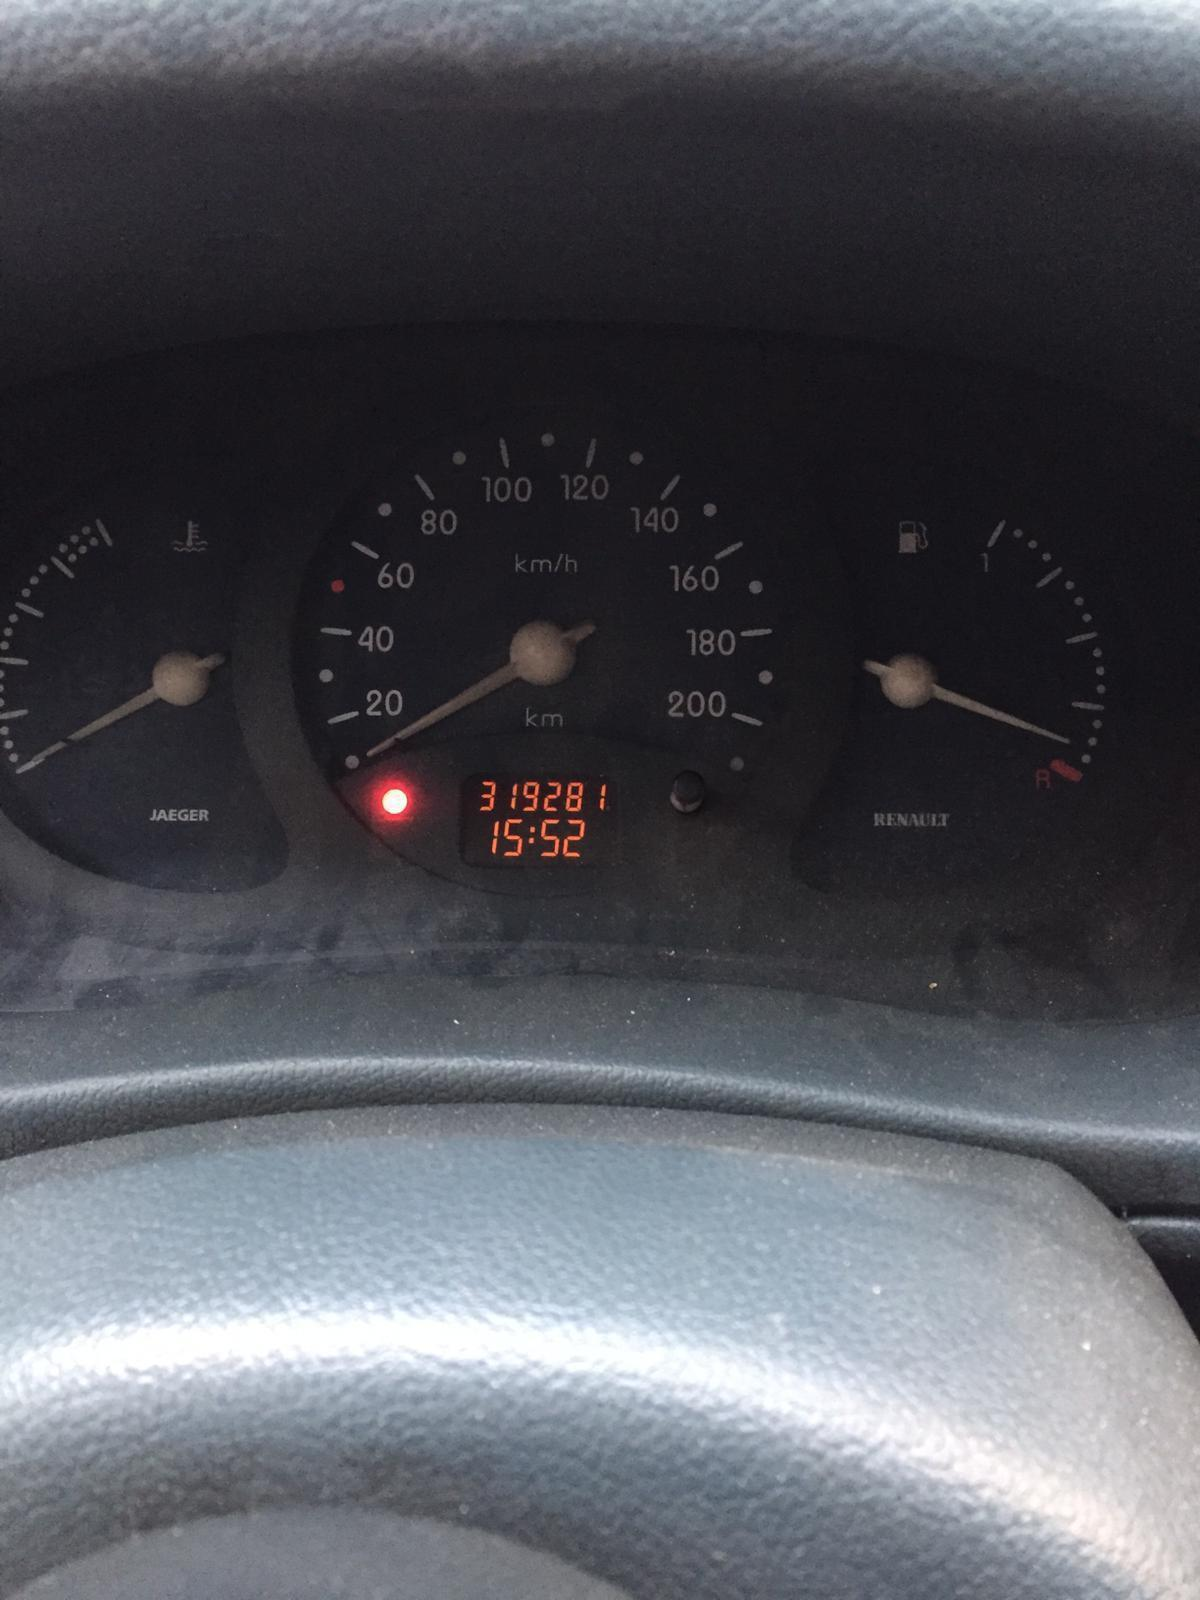1: (490, 820, 500, 854), (509, 782, 518, 810), (597, 784, 606, 811)
2: (562, 818, 585, 857), (543, 781, 561, 811)
3: (479, 780, 495, 811)
5: (539, 818, 560, 857), (503, 818, 523, 855)
8: (565, 782, 584, 811)
9: (522, 781, 539, 811)
X: (527, 825, 536, 844)
odometer: (456, 769, 621, 871)
